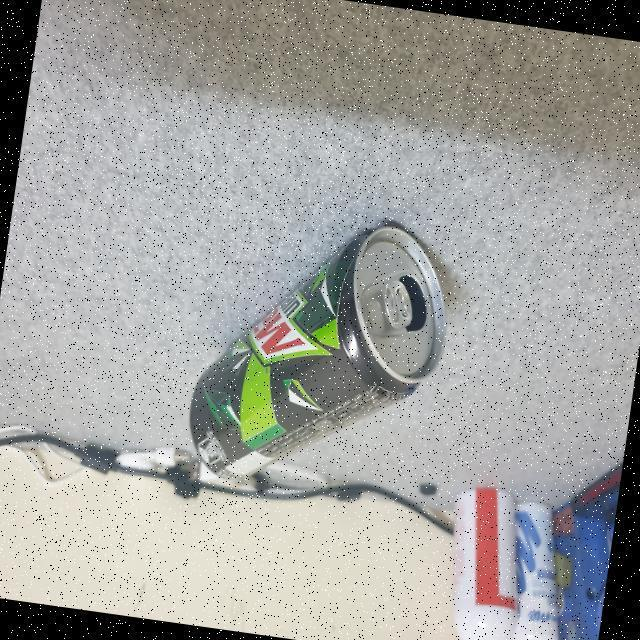can: (163, 195, 471, 529)
